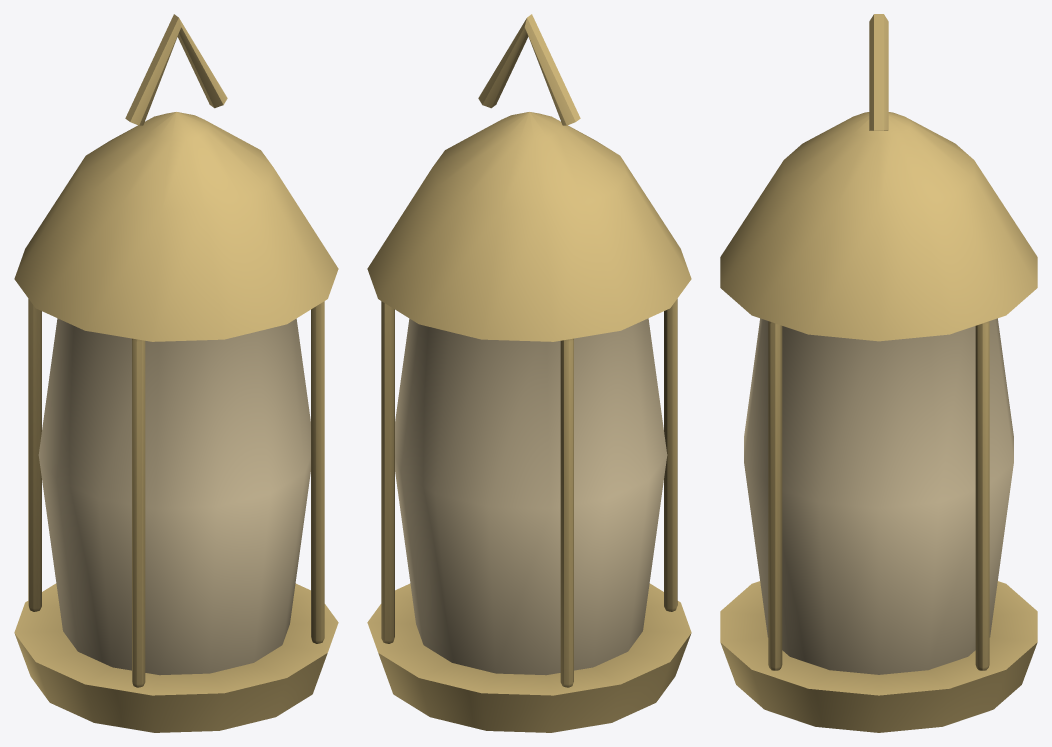
The model's file is lantern.glb.
The picture shows the model from 3 angles, left to right: view 1: azimuth 30°, elevation 25°; view 2: azimuth 150°, elevation 25°; view 3: azimuth 270°, elevation 25°; orthographic projection.
Parts seen in each view (by area): view 1: boat_brass2, boat_lampg; view 2: boat_brass2, boat_lampg; view 3: boat_brass2, boat_lampg.
Boxes of the visible parts, box(x1,y1,x2,y2) form: boat_brass2: box(14, 14, 338, 732); boat_lampg: box(38, 318, 310, 675); boat_brass2: box(367, 14, 691, 732); boat_lampg: box(395, 318, 667, 675); boat_brass2: box(720, 14, 1037, 732); boat_lampg: box(744, 318, 1013, 674).
Bounding box in the file's own units: 0.2 × 0.4452 × 0.195.
